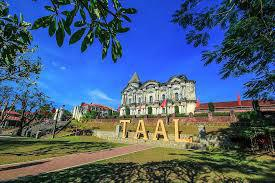taal_basilica_church_taal_batangas: (118, 69, 199, 117)
